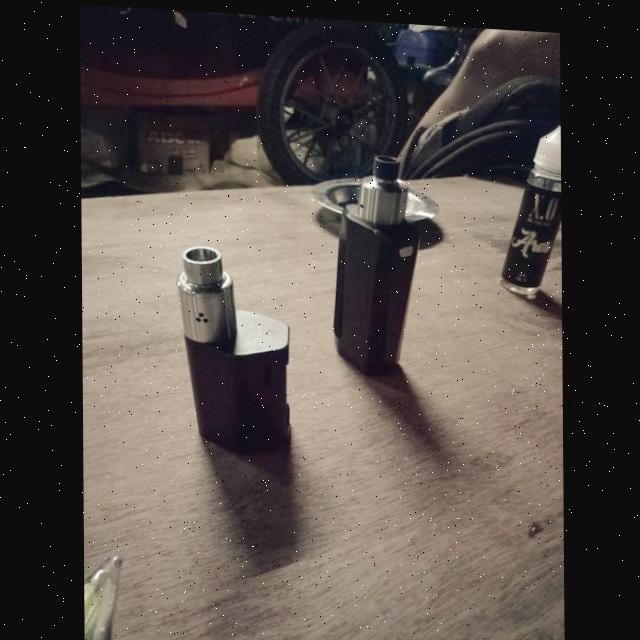vape: (174, 242, 292, 455), (330, 147, 423, 374)
